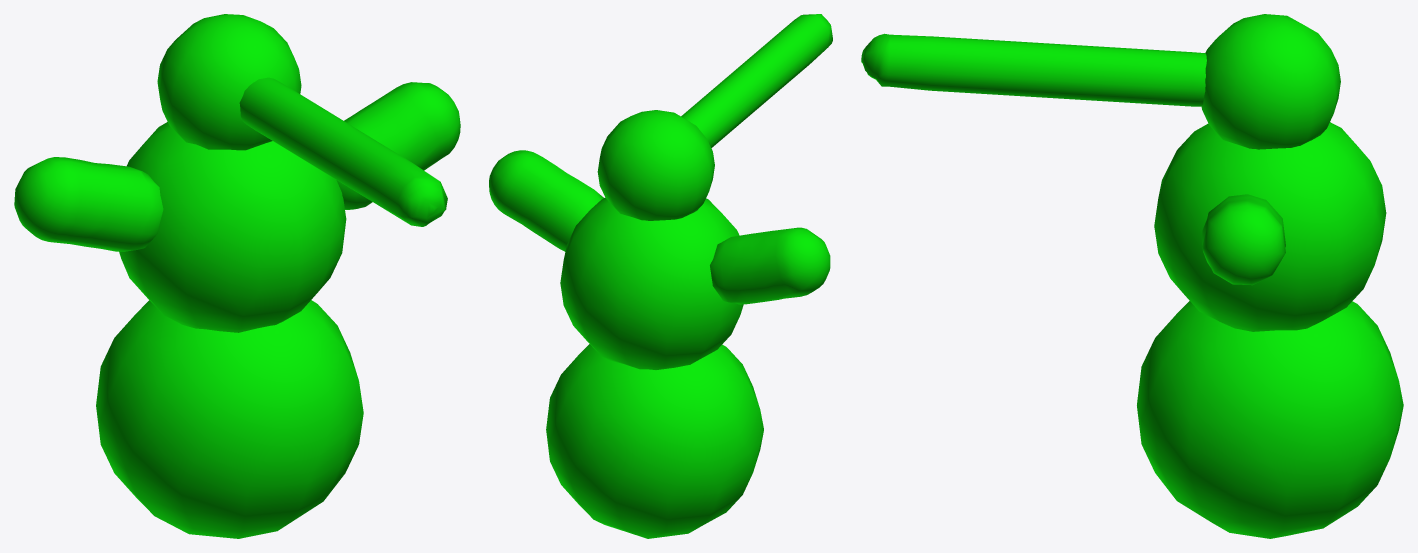
Rendered from player1_primitive.fbx.
The picture shows the model from 3 angles, left to right: view 1: azimuth 30°, elevation 25°; view 2: azimuth 150°, elevation 25°; view 3: azimuth 270°, elevation 25°; orthographic projection. The views are drawn at different scales.
Parts seen in each view (by area): view 1: Sphere_3, Sphere_2, Sphere, Capsule, Capsule_2_2, Capsule_2; view 2: Sphere_3, Sphere_2, Sphere, Capsule_2_2, Capsule, Capsule_2; view 3: Sphere_3, Sphere_2, Capsule, Sphere, Capsule_2.
Boxes of the visible parts, left/top/right/bottom form: Sphere_3: left=96, top=300, right=363, bottom=538; Sphere_2: left=119, top=122, right=346, bottom=332; Sphere: left=157, top=14, right=301, bottom=150; Capsule: left=239, top=77, right=447, bottom=226; Capsule_2_2: left=14, top=157, right=163, bottom=251; Capsule_2: left=336, top=82, right=460, bottom=209; Sphere_3: left=546, top=344, right=763, bottom=538; Sphere_2: left=560, top=197, right=743, bottom=369; Sphere: left=597, top=110, right=714, bottom=220; Capsule_2_2: left=710, top=227, right=830, bottom=304; Capsule: left=681, top=14, right=832, bottom=147; Capsule_2: left=489, top=150, right=603, bottom=251; Sphere_3: left=1137, top=301, right=1403, bottom=538; Sphere_2: left=1154, top=122, right=1386, bottom=331; Capsule: left=861, top=33, right=1206, bottom=106; Sphere: left=1201, top=14, right=1340, bottom=149; Capsule_2: left=1202, top=194, right=1285, bottom=285.
Size of the model in its own units: 184 by 212 by 206.
